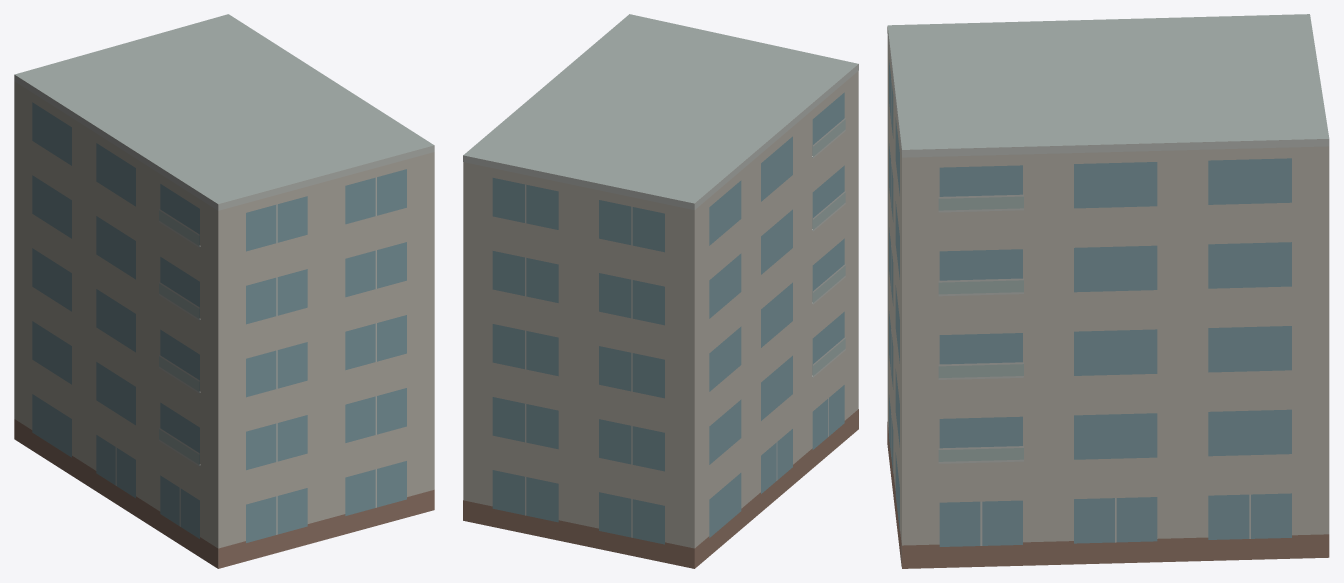
Rendered from survey-upis-32883378.glb.
The picture shows the model from 3 angles, left to right: view 1: azimuth 30°, elevation 25°; view 2: azimuth 150°, elevation 25°; view 3: azimuth 270°, elevation 25°; orthographic projection. The views are drawn at different scales.
Visible parts, largest first — view 1: survey-upis-32883378.tmp; view 2: survey-upis-32883378.tmp; view 3: survey-upis-32883378.tmp.
Boxes of the visible parts, <box> form: survey-upis-32883378.tmp: <box>14,14,434,568</box>; survey-upis-32883378.tmp: <box>463,14,858,568</box>; survey-upis-32883378.tmp: <box>887,14,1329,568</box>.
Bounding box in the file's own units: 9.34 × 13.4 × 12.82.
